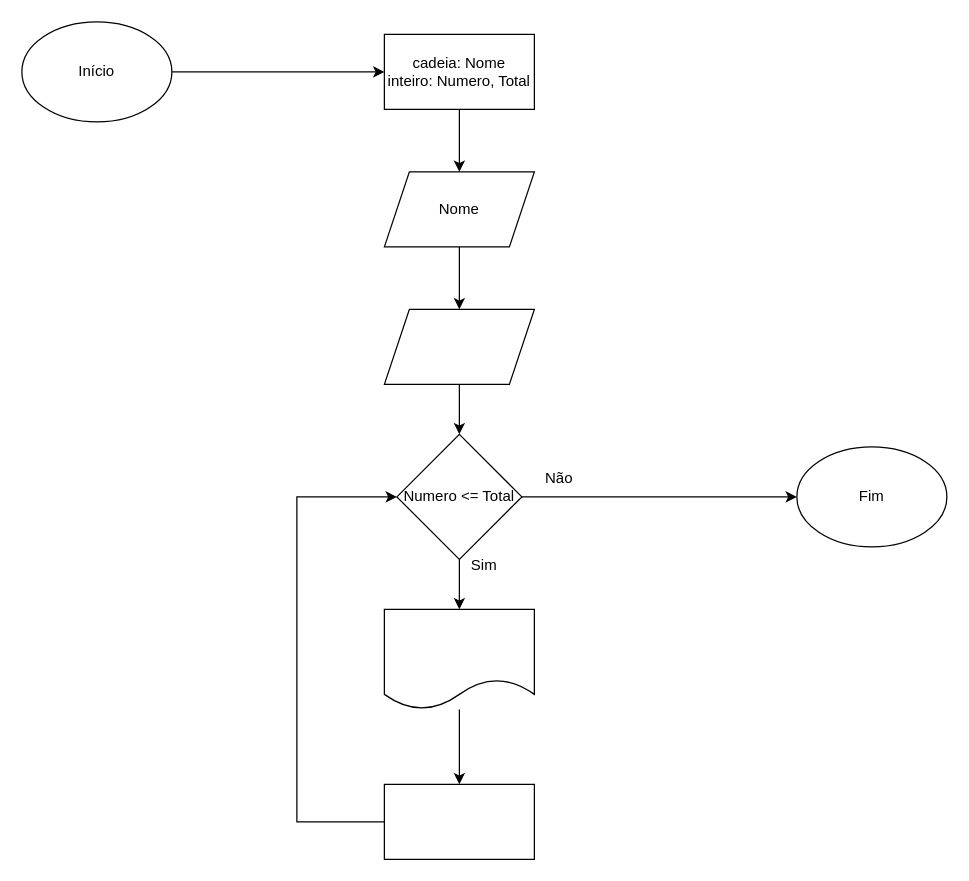
Image size: 969x881. Some labels were removed from this diagram. The centre of each missing label's shape, as x and y in pixels:
"Escreva: Nome" goes at (x=458, y=658).
"Numero++" goes at (x=458, y=821).
"Total" goes at (x=458, y=346).
